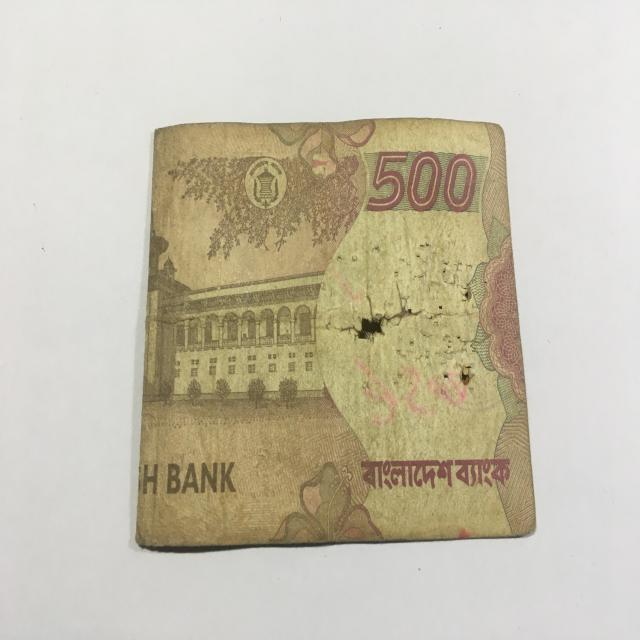Taka: (140, 113, 528, 543)
